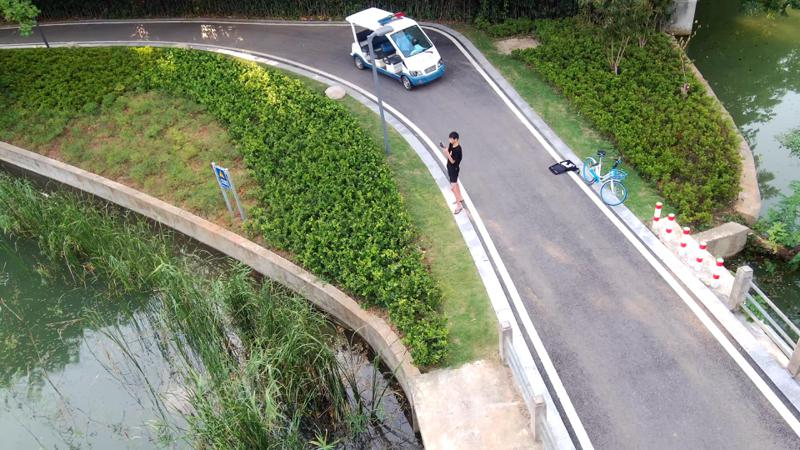passerby: (438, 130, 465, 216)
